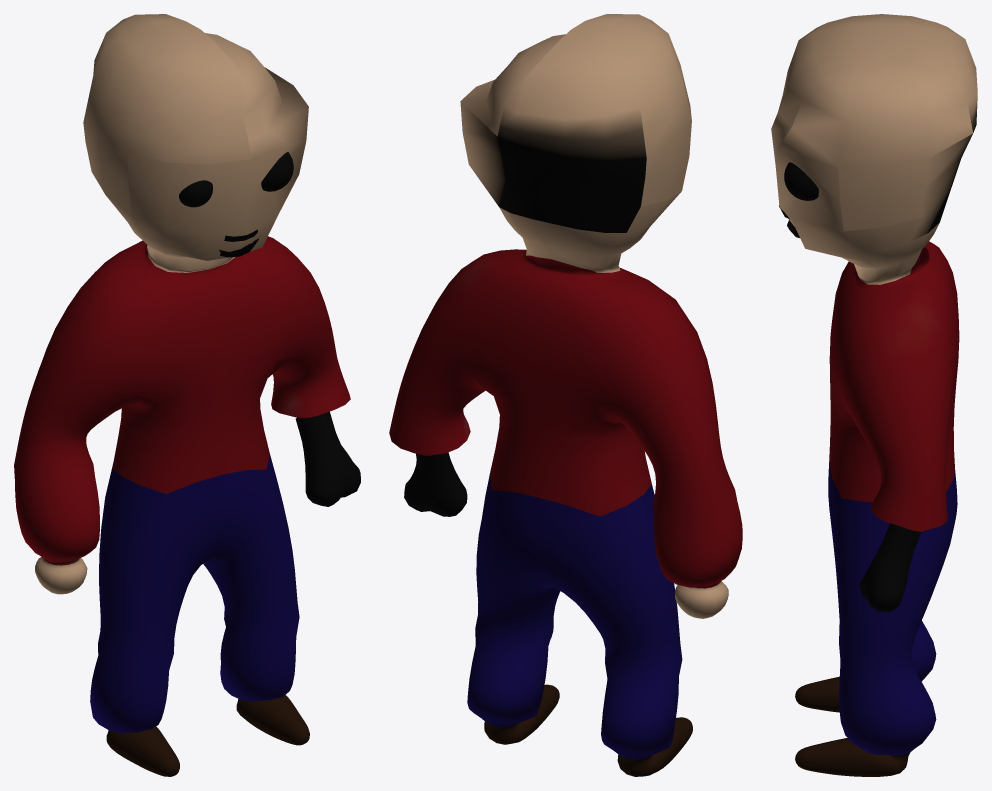
Rendered from zombieTest3.fbx.
3 views of the same model, side by side, from view 1: azimuth 30°, elevation 25°; view 2: azimuth 150°, elevation 25°; view 3: azimuth 270°, elevation 25° (orthographic). The views are drawn at different scales.
Parts seen in each view (by area): view 1: polySurface9; view 2: polySurface9; view 3: polySurface9.
Part boxes in pixels (<box>): polySurface9: <box>14,14,360,776</box>; polySurface9: <box>389,14,742,776</box>; polySurface9: <box>771,14,977,776</box>.
Size of the model in its own units: 51.49 by 108 by 28.54.
